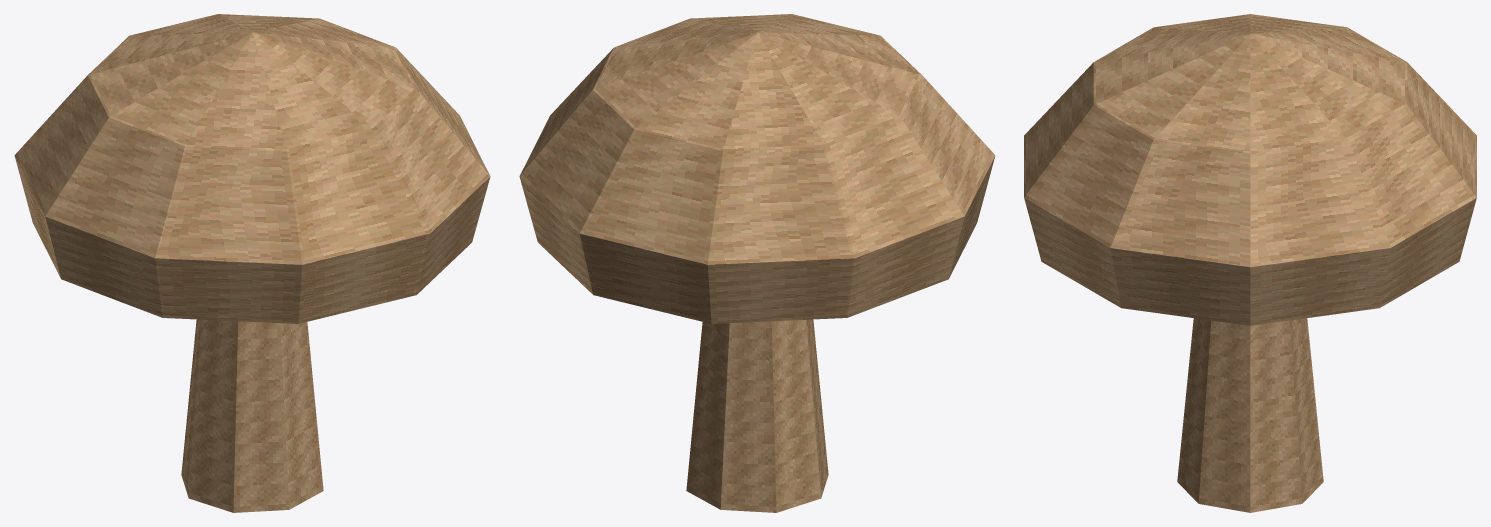
File: cogumelo.glb
The picture shows the model from 3 angles, left to right: view 1: azimuth 30°, elevation 25°; view 2: azimuth 150°, elevation 25°; view 3: azimuth 270°, elevation 25°; orthographic projection.
Visible parts, largest first — view 1: cogumelo; view 2: cogumelo; view 3: cogumelo.
Boxes of the visible parts, box(x1,y1,x2,y2) form: cogumelo: box(14, 14, 490, 512); cogumelo: box(519, 14, 995, 512); cogumelo: box(1024, 14, 1476, 512).
Bounding box in the file's own units: 0.442 × 0.459 × 0.4204.
1 material, 1 textured.
